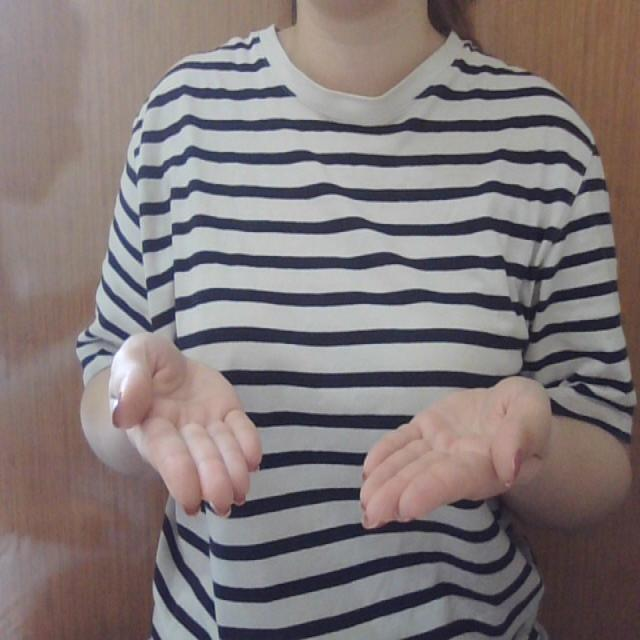Evet: (103, 328, 557, 534)
